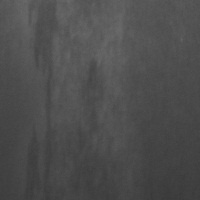inclusion: (22, 1, 57, 199), (75, 57, 104, 155)
